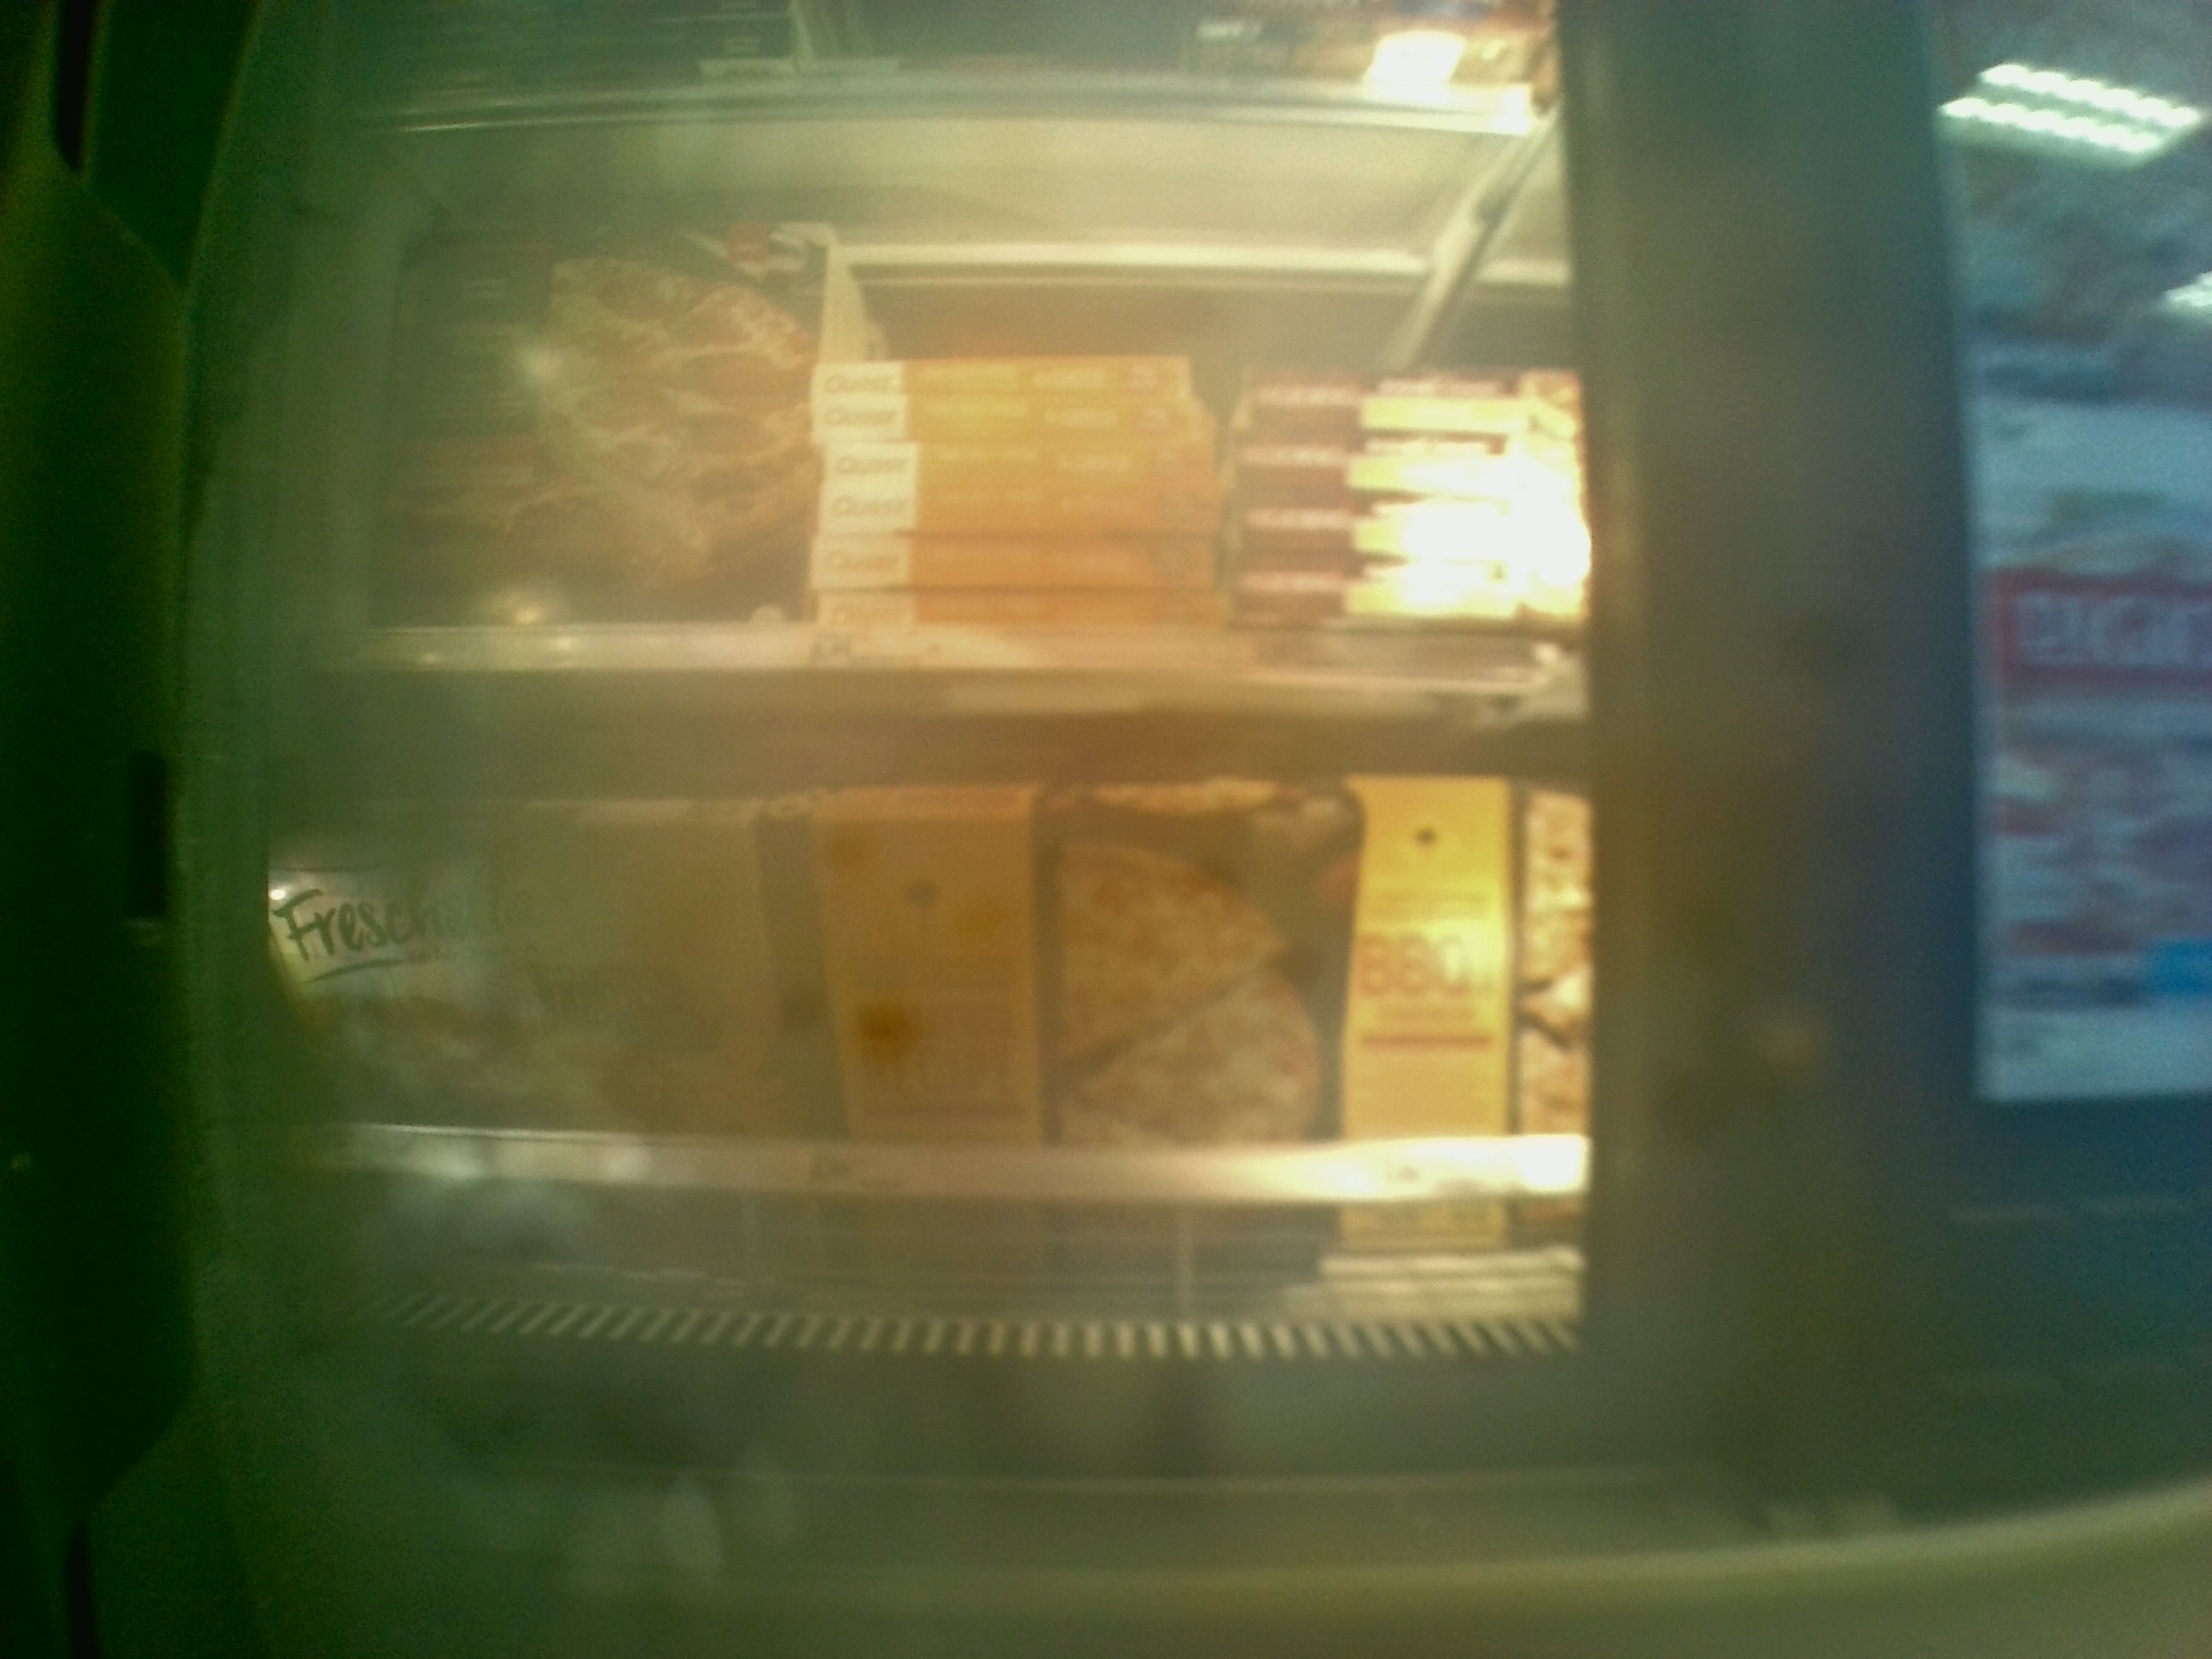pizza: (266, 772, 1339, 1148), (362, 214, 784, 608), (806, 352, 1190, 410), (1244, 436, 1576, 502), (827, 441, 1209, 490), (1251, 566, 1566, 624), (1245, 369, 1576, 420), (808, 537, 1184, 580), (1251, 505, 1550, 558), (827, 490, 1200, 523), (803, 404, 1195, 436), (822, 598, 1211, 622)
